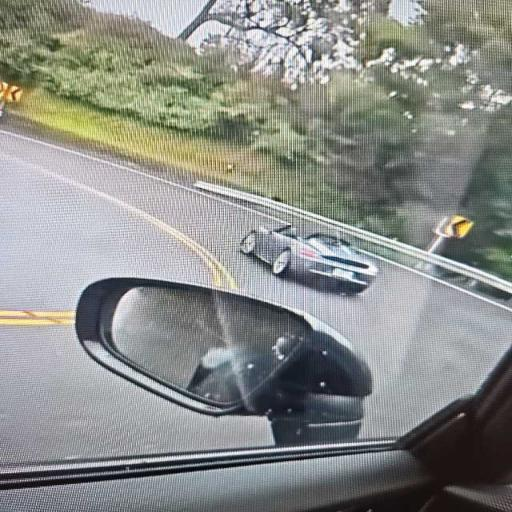car: (240, 225, 378, 292)
lane: (0, 134, 511, 437), (0, 325, 271, 466)
